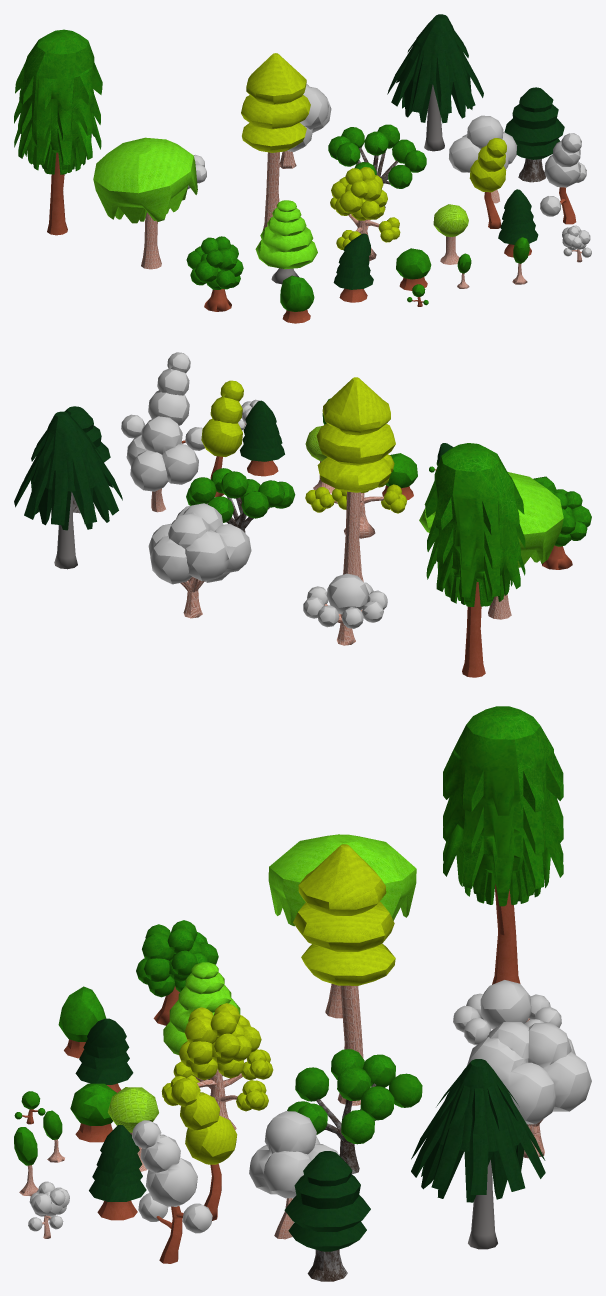
Rendered from cartoon_trees.obj.
3 renders of one model, top to bottom at view 1: azimuth 30°, elevation 25°; view 2: azimuth 150°, elevation 25°; view 3: azimuth 270°, elevation 25°, orthographic. The views are drawn at different scales.
Parts seen in each view (by area): view 1: Fantasy Tree 23_1, Fantasy Tree 19_0, Fantasy Tree 21_1, Fantasy Tree 22_0, Fantasy Tree 13_1, Fantasy Tree 18_0, Fantasy Tree 16_1, Fantasy Tree 15_1, Fantasy Tree 17_1, Fantasy Tree 6_0, Fantasy Tree 5_1, Fantasy Tree 3_1 (+13 smaller); view 2: Fantasy Tree 23_1, Fantasy Tree 21_1, Fantasy Tree 22_0, Fantasy Tree 20_1, Fantasy Tree 5_1, Fantasy Tree 13_1, Fantasy Tree 8_0, Fantasy Tree 19_0, Fantasy Tree 6_0, Fantasy Tree 7_1, Fantasy Tree 4_1, Fantasy Tree 18_0 (+10 smaller); view 3: Fantasy Tree 23_1, Fantasy Tree 21_1, Fantasy Tree 22_0, Fantasy Tree 20_1, Fantasy Tree 13_1, Fantasy Tree 18_0, Fantasy Tree 15_1, Fantasy Tree 19_0, Fantasy Tree 6_0, Fantasy Tree 5_1, Fantasy Tree 17_1, Fantasy Tree 8_0 (+15 smaller).
Part boxes in pixels (x1,y1,x2,y2): Fantasy Tree 23_1: (14, 29, 102, 174); Fantasy Tree 19_0: (93, 137, 197, 223); Fantasy Tree 21_1: (387, 14, 483, 123); Fantasy Tree 22_0: (241, 53, 310, 152); Fantasy Tree 13_1: (328, 124, 426, 188); Fantasy Tree 18_0: (330, 167, 400, 249); Fantasy Tree 16_1: (255, 200, 317, 269); Fantasy Tree 15_1: (504, 87, 564, 159); Fantasy Tree 17_1: (186, 236, 243, 289); Fantasy Tree 6_0: (540, 133, 586, 216); Fantasy Tree 5_1: (449, 115, 517, 172); Fantasy Tree 3_1: (333, 233, 373, 289); Fantasy Tree 23_1: (425, 443, 525, 606); Fantasy Tree 21_1: (14, 411, 122, 530); Fantasy Tree 22_0: (316, 377, 395, 492); Fantasy Tree 20_1: (148, 503, 251, 584); Fantasy Tree 5_1: (126, 416, 198, 491); Fantasy Tree 13_1: (186, 468, 295, 522); Fantasy Tree 8_0: (303, 573, 387, 628); Fantasy Tree 19_0: (507, 472, 563, 567); Fantasy Tree 6_0: (121, 352, 204, 450); Fantasy Tree 7_1: (201, 380, 243, 456); Fantasy Tree 4_1: (240, 400, 284, 461); Fantasy Tree 18_0: (305, 454, 406, 513); Fantasy Tree 23_1: (443, 706, 563, 906); Fantasy Tree 21_1: (411, 1059, 545, 1202); Fantasy Tree 22_0: (293, 844, 395, 985); Fantasy Tree 20_1: (467, 1022, 591, 1124); Fantasy Tree 13_1: (287, 1049, 422, 1144); Fantasy Tree 18_0: (161, 1003, 273, 1111); Fantasy Tree 15_1: (284, 1151, 370, 1251); Fantasy Tree 19_0: (268, 834, 416, 926); Fantasy Tree 6_0: (132, 1120, 212, 1233); Fantasy Tree 5_1: (249, 1111, 338, 1198); Fantasy Tree 17_1: (136, 920, 218, 997); Fantasy Tree 8_0: (453, 980, 561, 1045).
Size of the model in its own units: 113 by 44.09 by 83.32.
